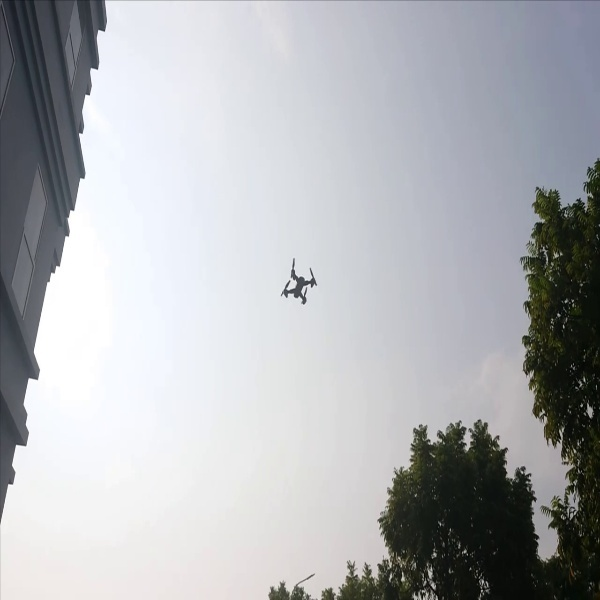drone: (274, 252, 321, 306)
